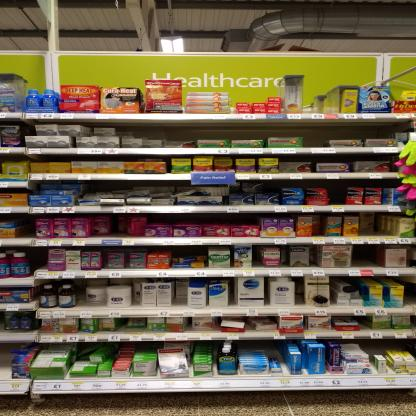empty_space: (352, 244, 381, 276)
